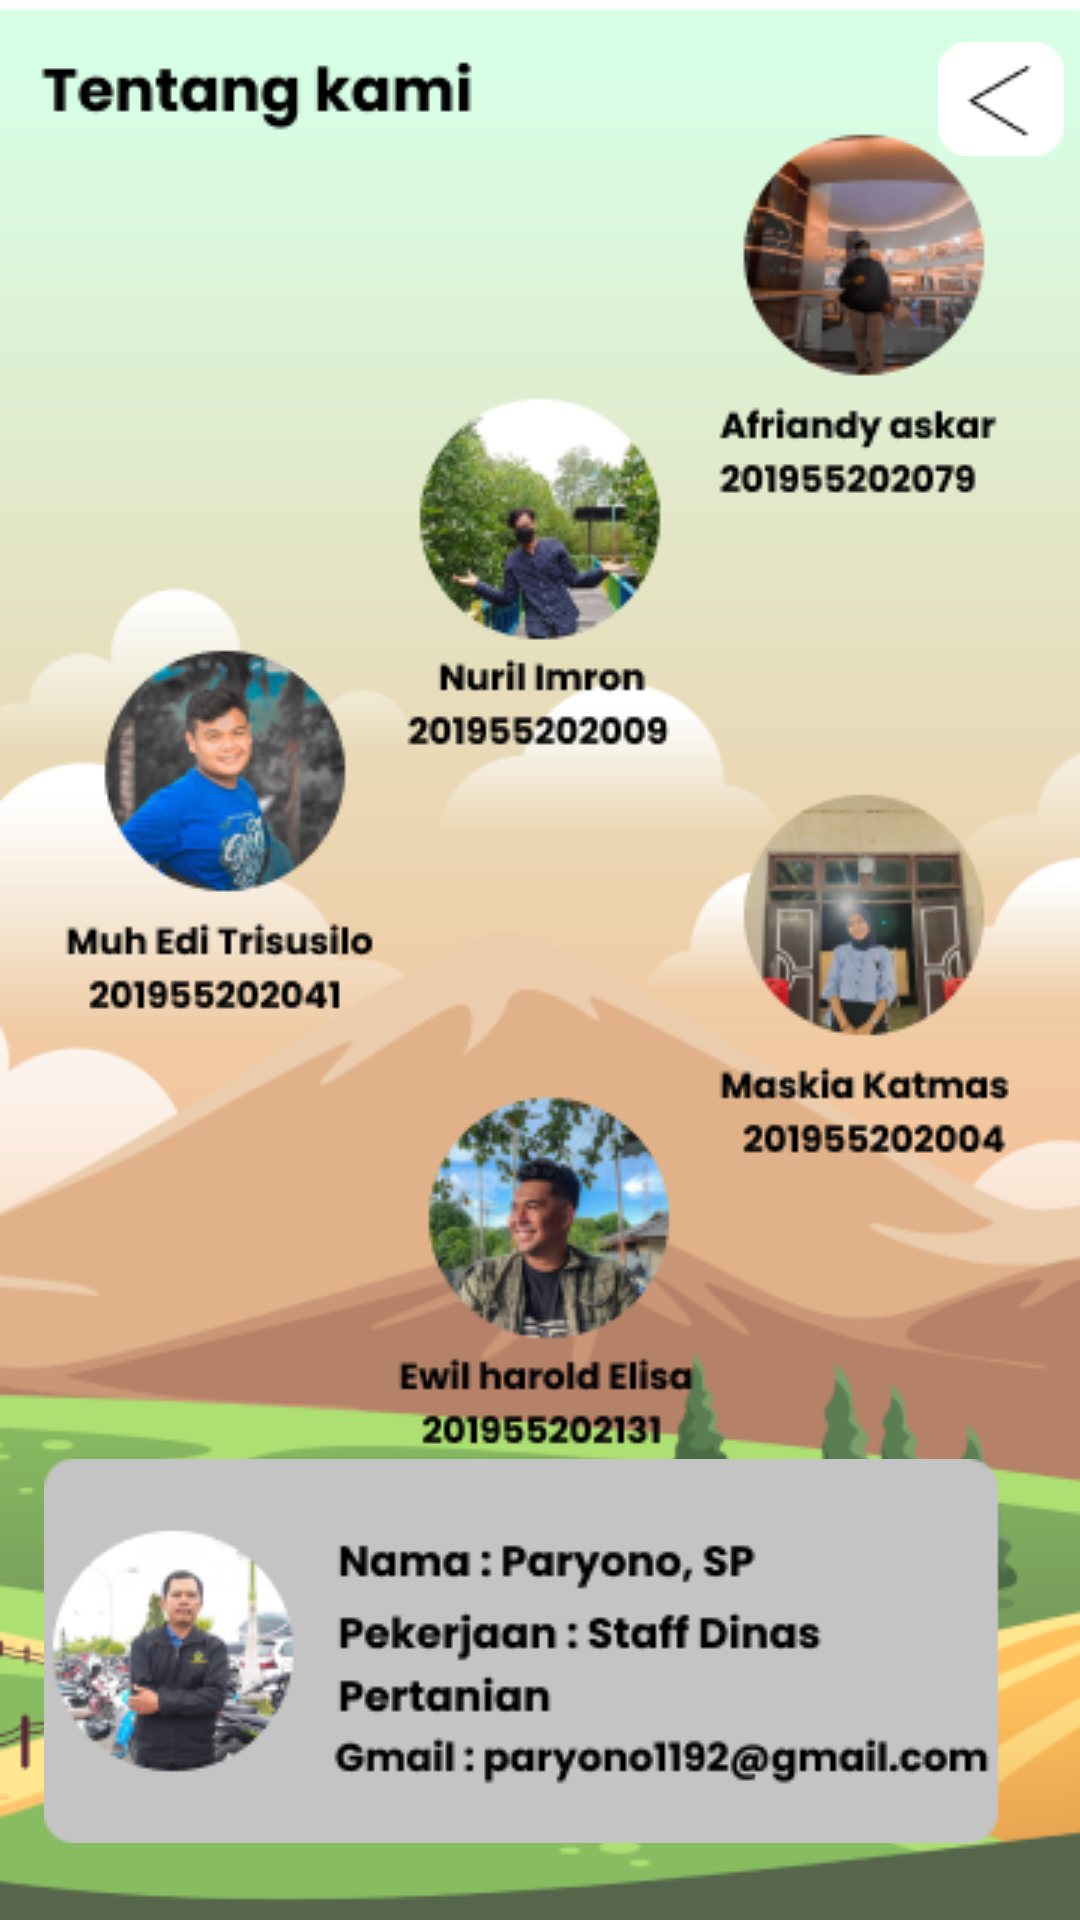

Named icons in this screenshot (1080w x 1920h) and their centers, [x,y]:
back: [1001,99]
